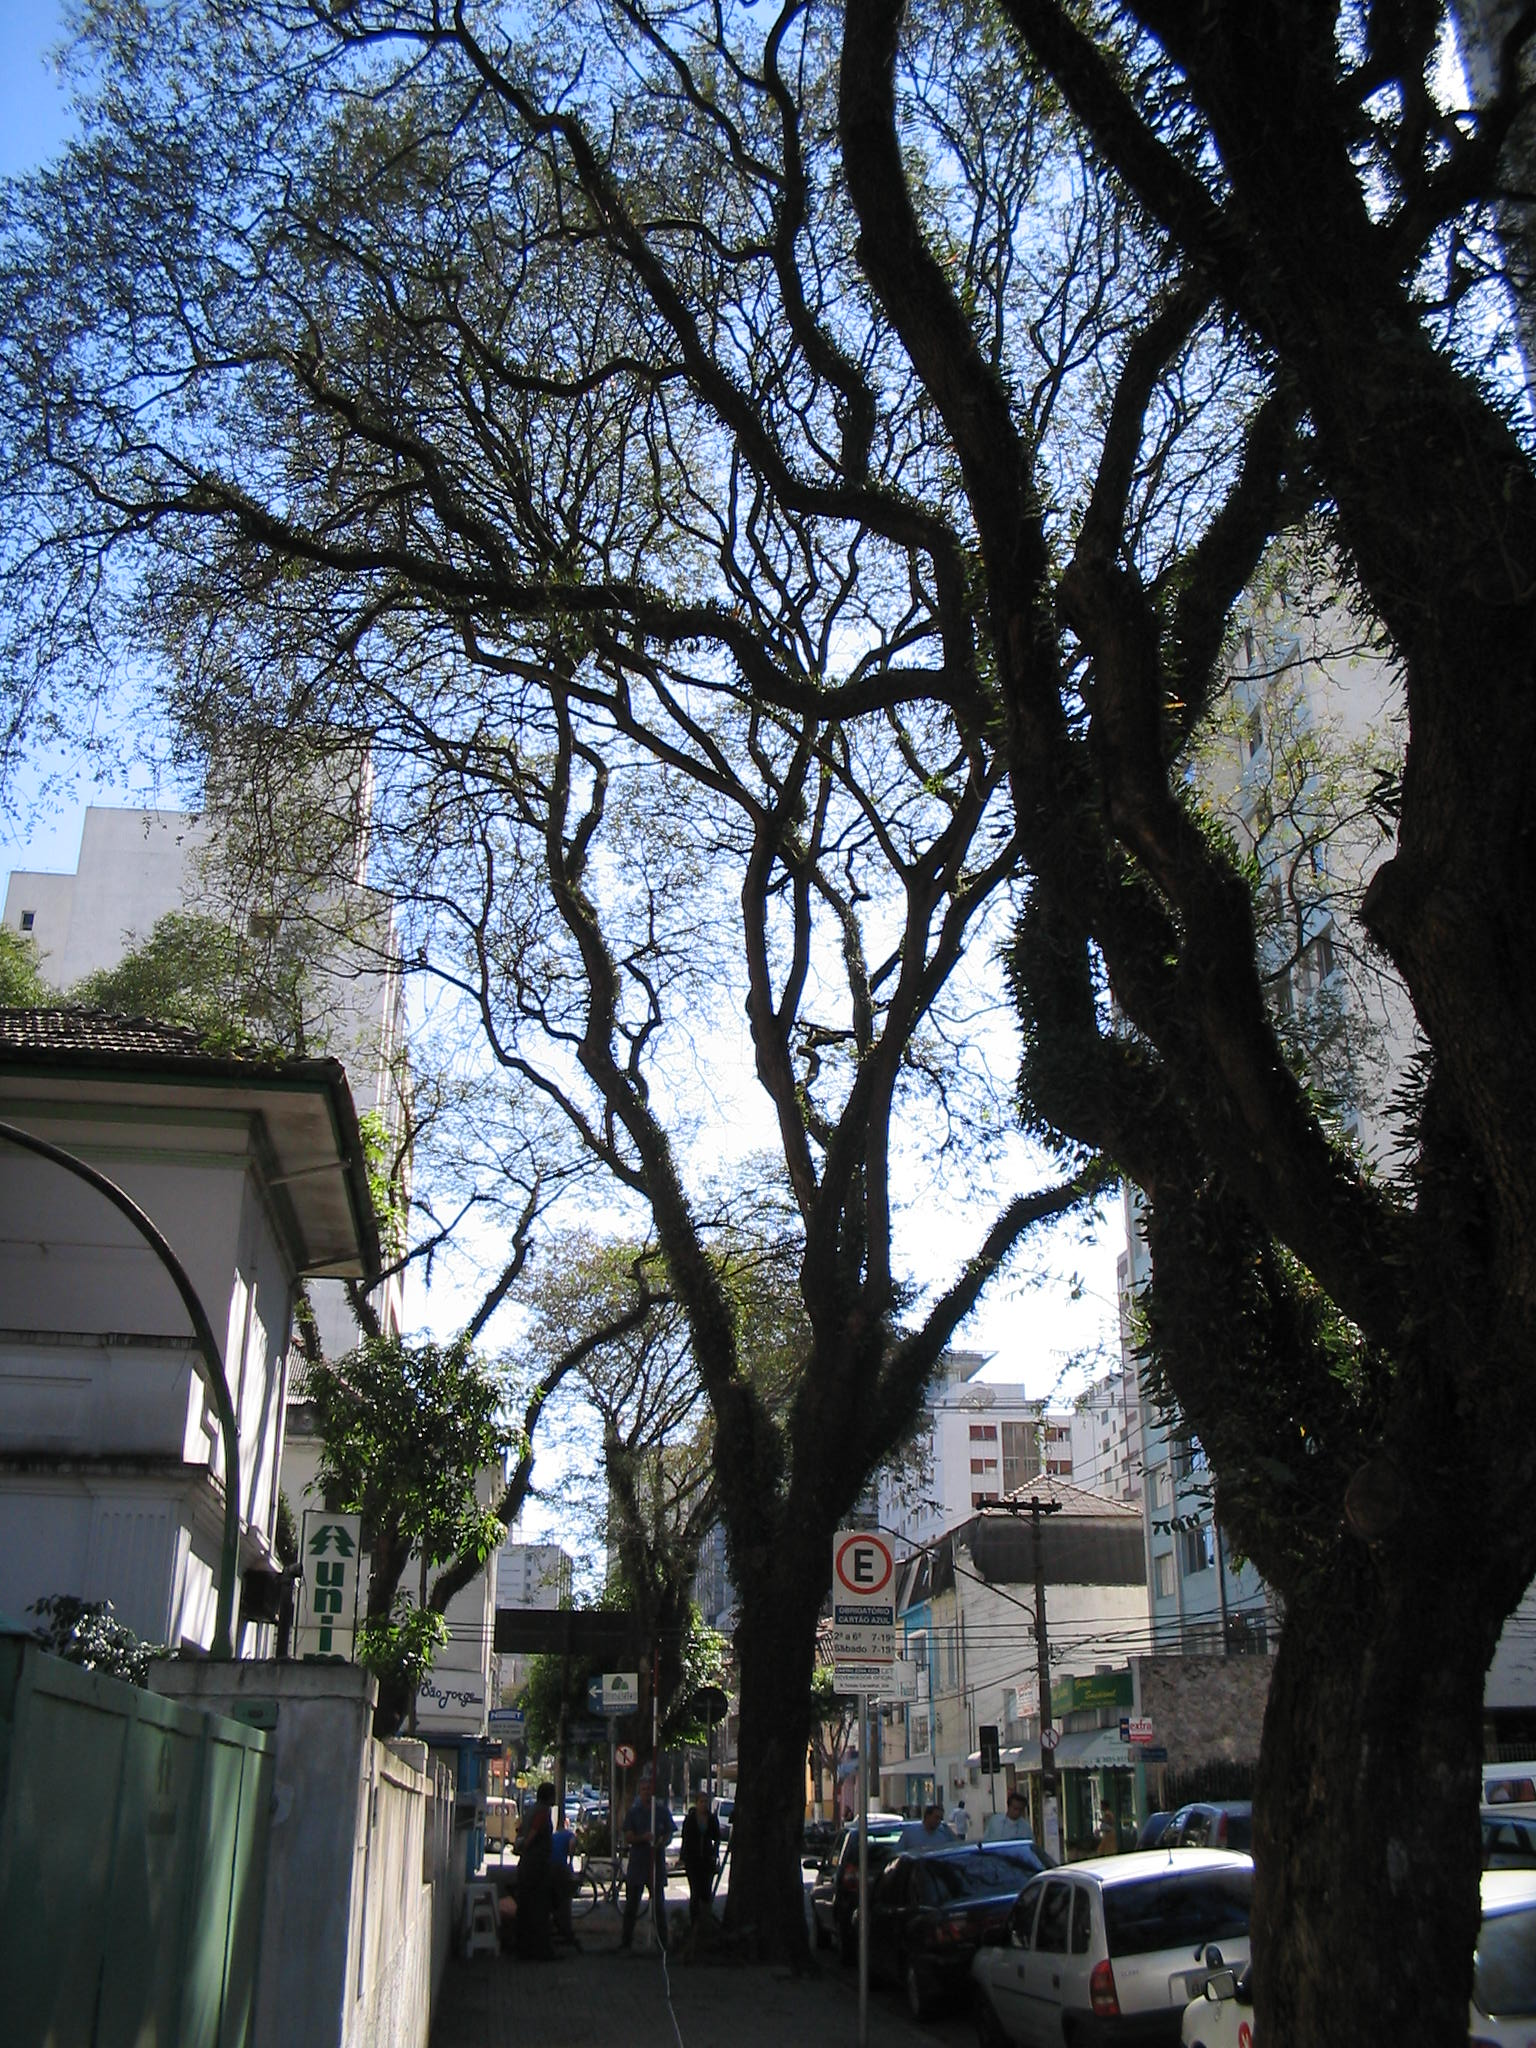stem: (1191, 1590, 1534, 2046), (689, 1551, 847, 1967)
stick: (637, 1646, 668, 1951)
tree: (121, 10, 1292, 1972)
